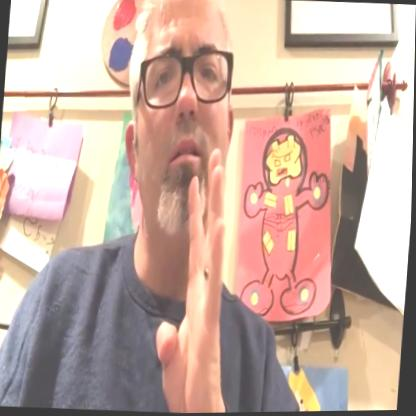Talk: (90, 0, 274, 415)
